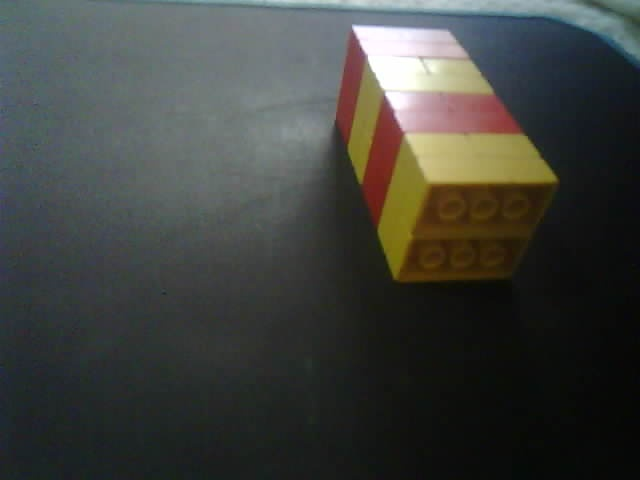lego: (332, 23, 560, 286)
